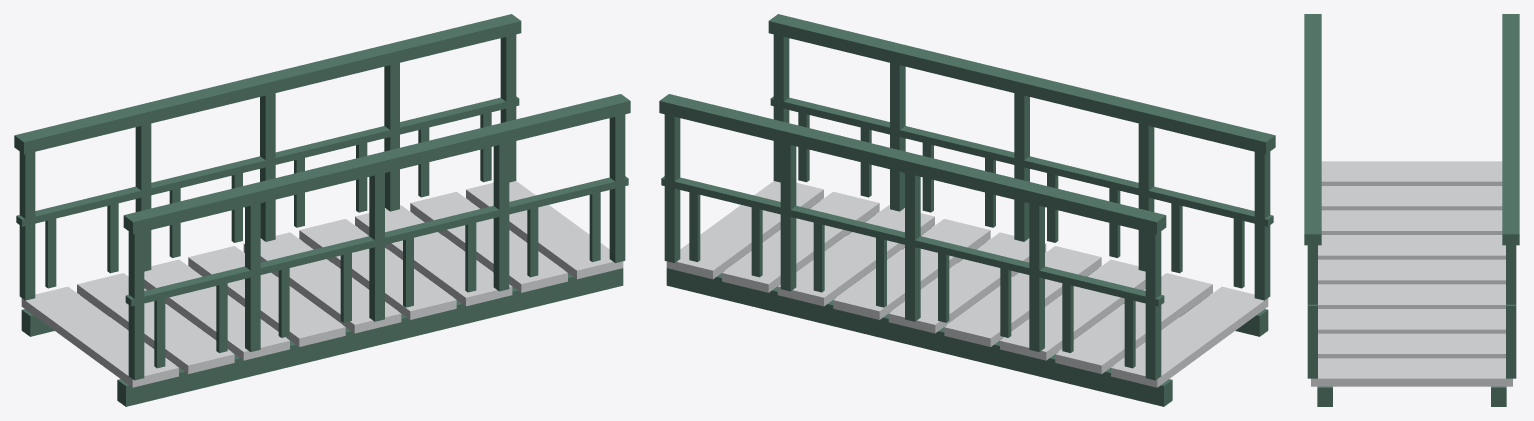
The model's file is botanical-glasshouse-and-palm-house-botanical-glasshou-091e7786__38538.glb.
3 renders of one model, left to right at view 1: azimuth 30°, elevation 25°; view 2: azimuth 150°, elevation 25°; view 3: azimuth 270°, elevation 25°, orthographic. The views are drawn at different scales.
Parts seen in each view (by area): view 1: botanical-glasshouse-and-palm-house-gallery-walkway-section_ (×2); view 2: botanical-glasshouse-and-palm-house-gallery-walkway-section_ (×2); view 3: botanical-glasshouse-and-palm-house-gallery-walkway-section_ (×2).
Part boxes in pixels (bbox=[...]): botanical-glasshouse-and-palm-house-gallery-walkway-section_ (×2): bbox=[14, 14, 630, 406]; botanical-glasshouse-and-palm-house-gallery-walkway-section_ (×2): bbox=[659, 14, 1275, 406]; botanical-glasshouse-and-palm-house-gallery-walkway-section_ (×2): bbox=[1304, 14, 1519, 406].
Bounding box in the file's own units: 3 × 1.1 × 1.24.
